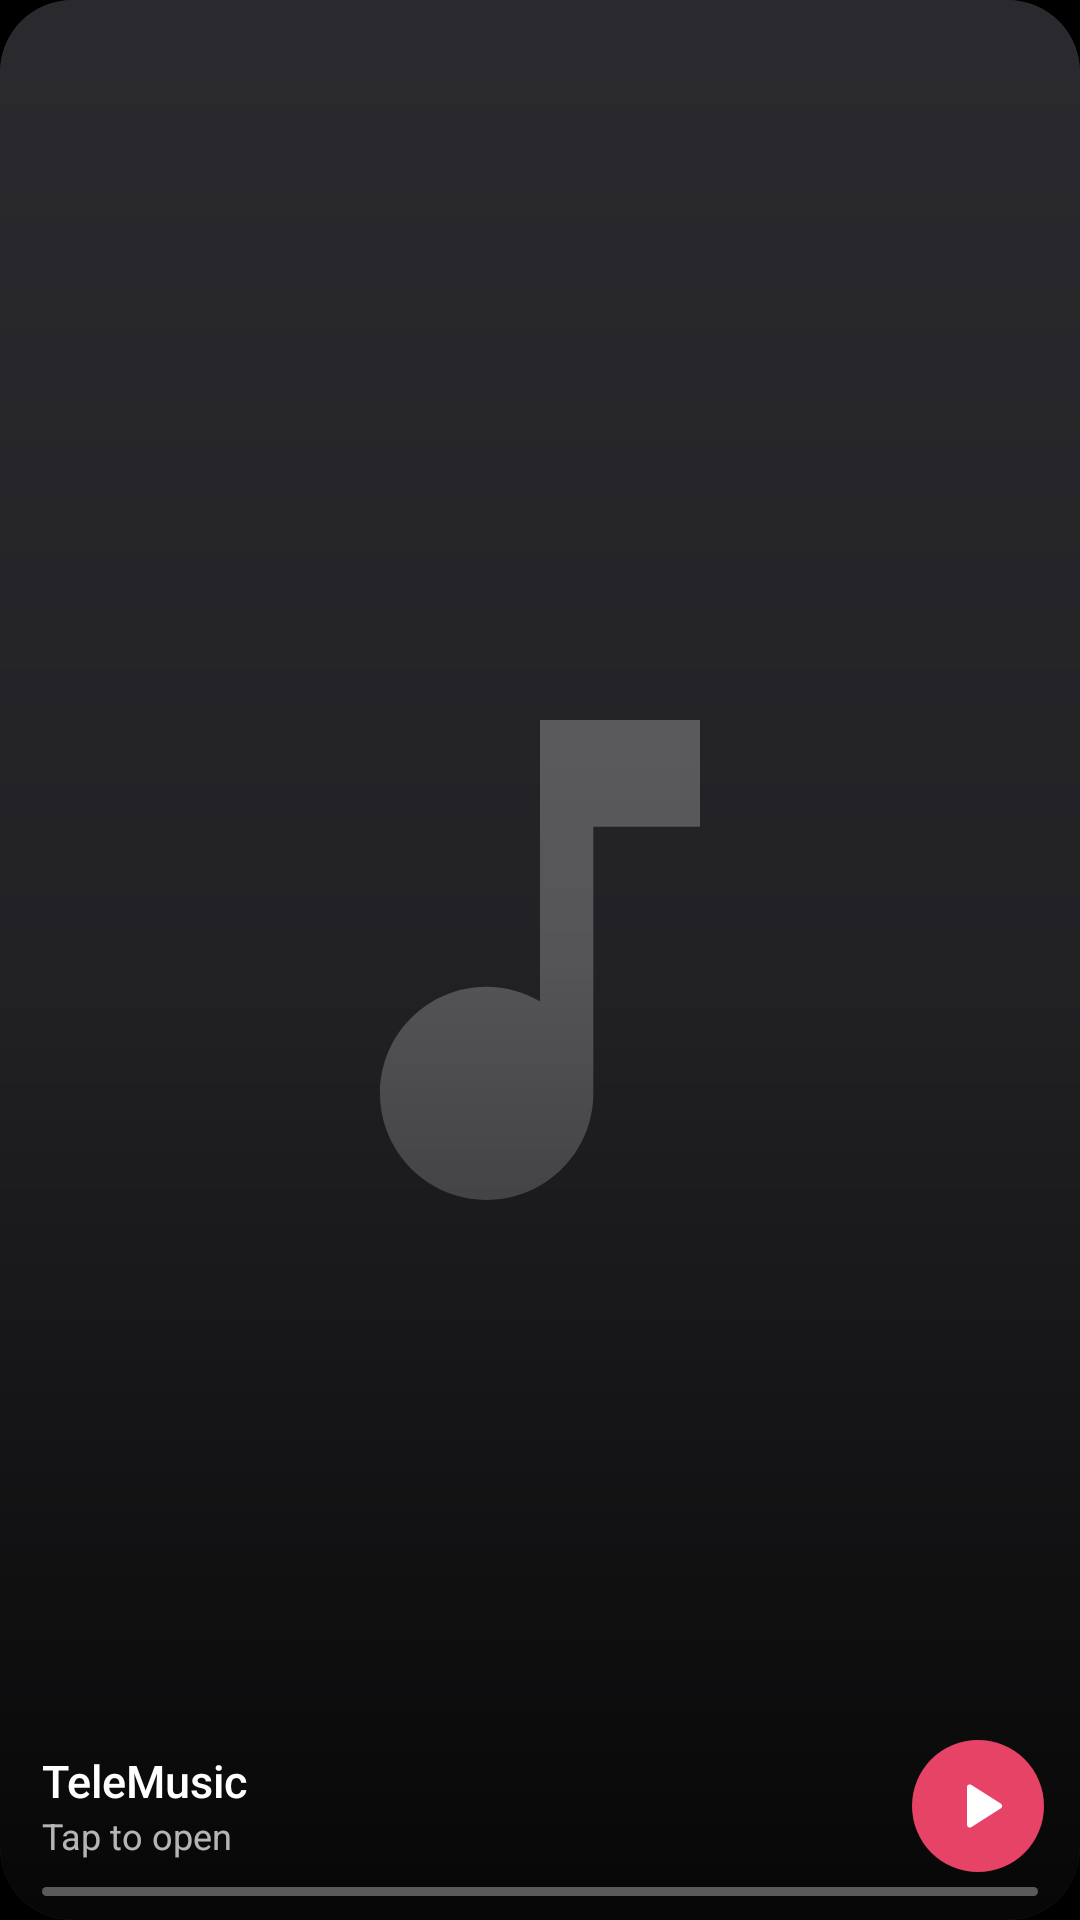

Icons on this 1080×1920 Android screen, each with the point to tap as (x=x, y=y):
Play or pause: (x=978, y=1806)
